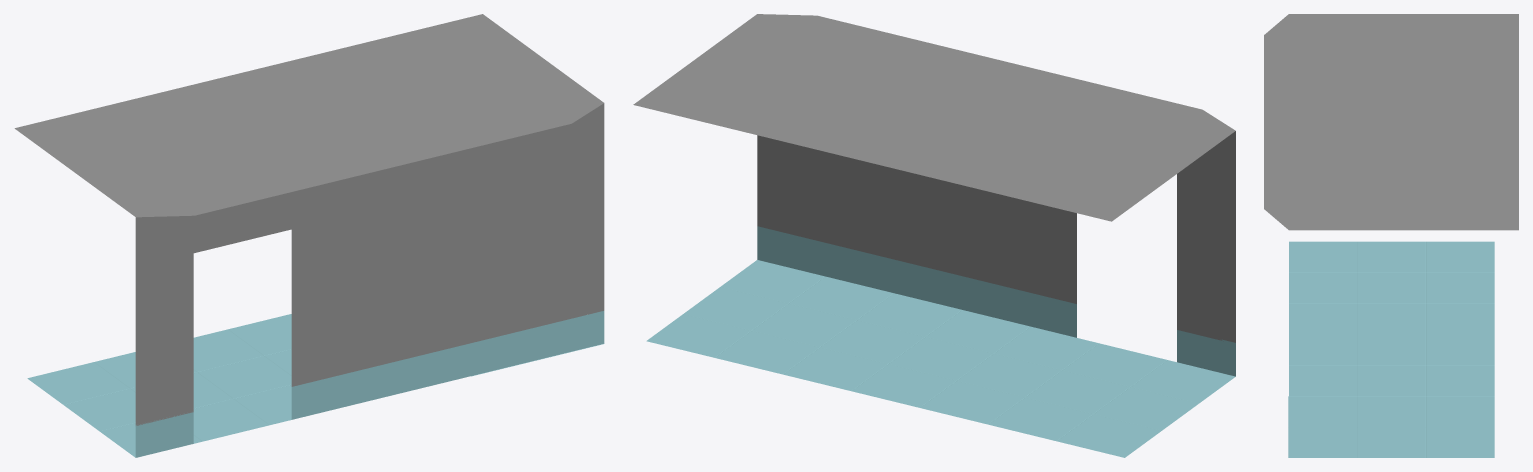
Rendered from HS_I_Outside_Model_V1.FBX.
3 renders of one model, left to right at view 1: azimuth 30°, elevation 25°; view 2: azimuth 150°, elevation 25°; view 3: azimuth 270°, elevation 25°, orthographic. The views are drawn at different scales.
Visible parts, largest first — view 1: Object, Object004, Object003, Object001; view 2: Object004, Object003, Object, Object001; view 3: Object004, Object003.
Part boxes in pixels (x1,y1,x2,y2): Object: [135, 103, 604, 425]; Object004: [14, 14, 603, 217]; Object003: [27, 314, 604, 457]; Object001: [135, 311, 604, 457]; Object004: [633, 14, 1235, 221]; Object003: [646, 260, 1235, 457]; Object: [757, 131, 1235, 342]; Object001: [757, 226, 1235, 376]; Object004: [1264, 14, 1518, 230]; Object003: [1288, 241, 1494, 457].
Bounding box in the file's own units: 452 × 222 × 225.
